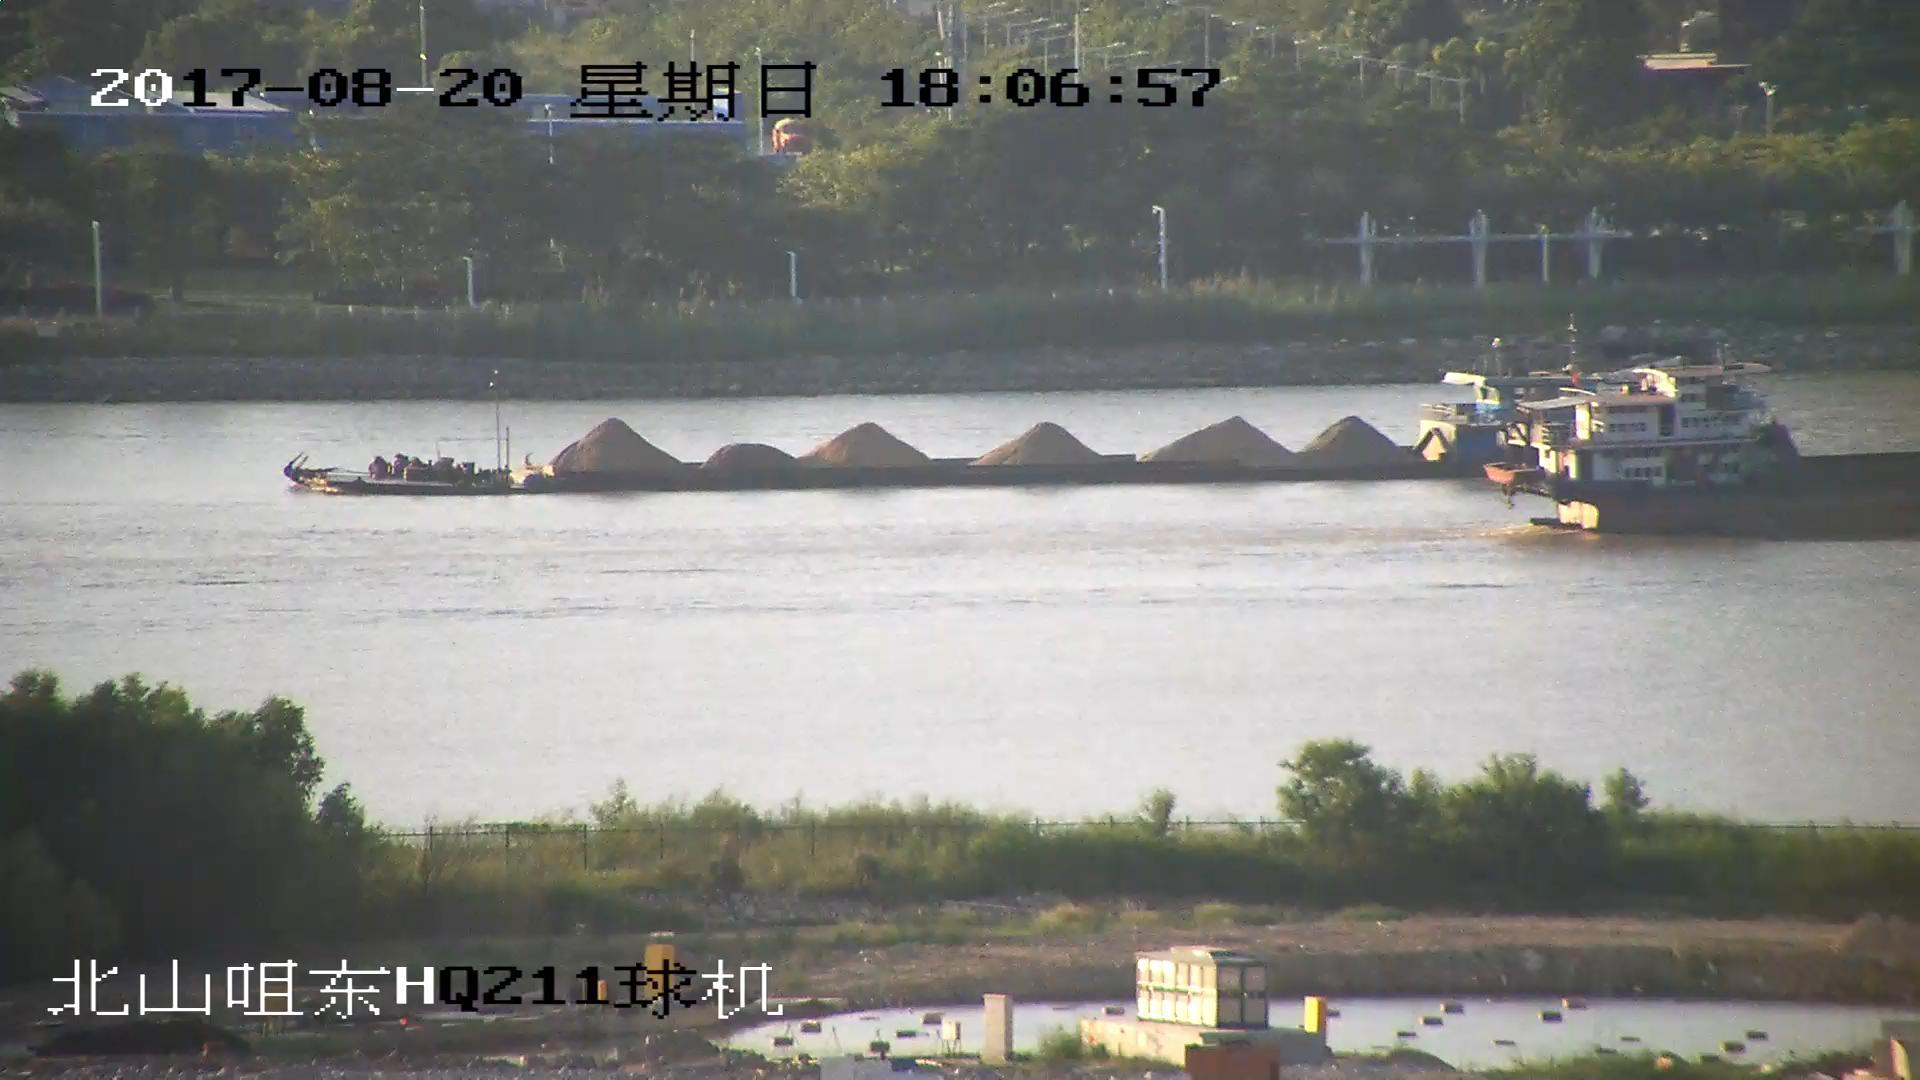Ship: (276, 351, 1793, 498), (1484, 364, 1920, 542)
